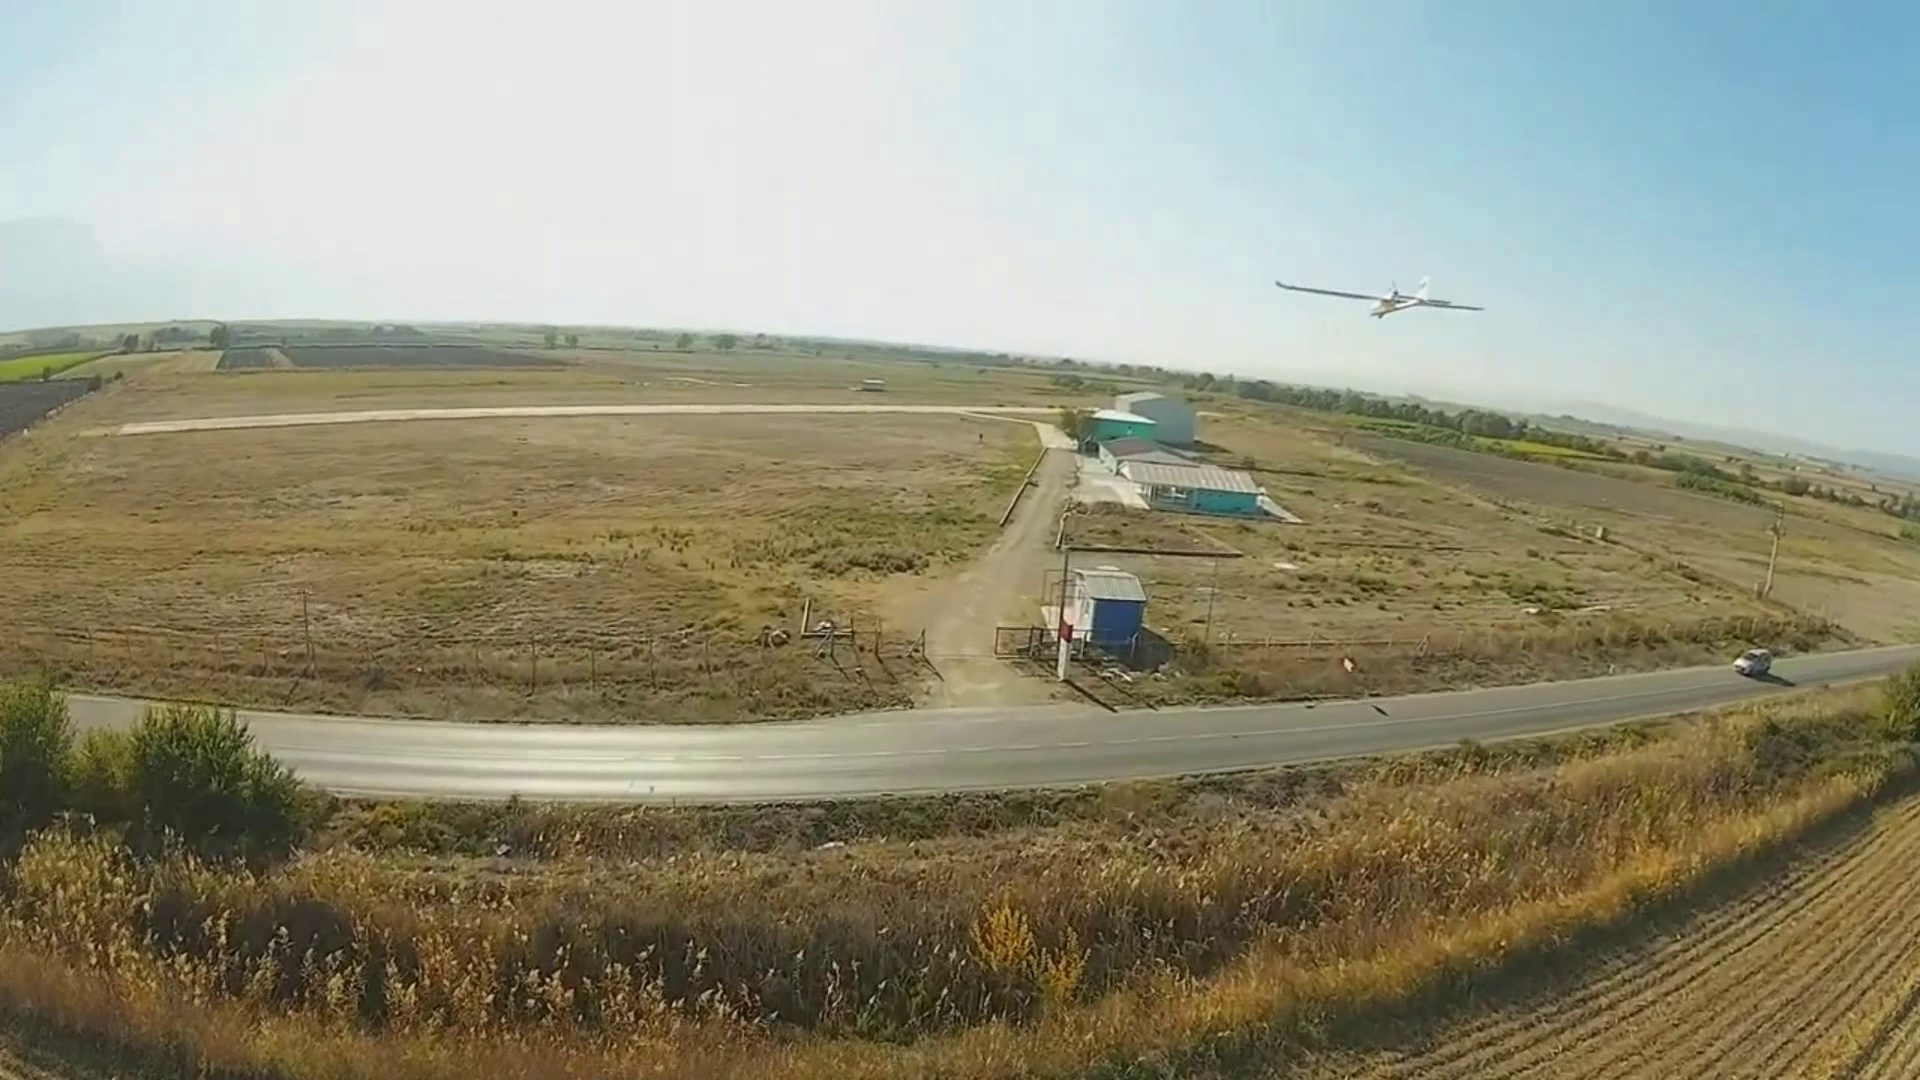airplane: (1271, 266, 1485, 319)
